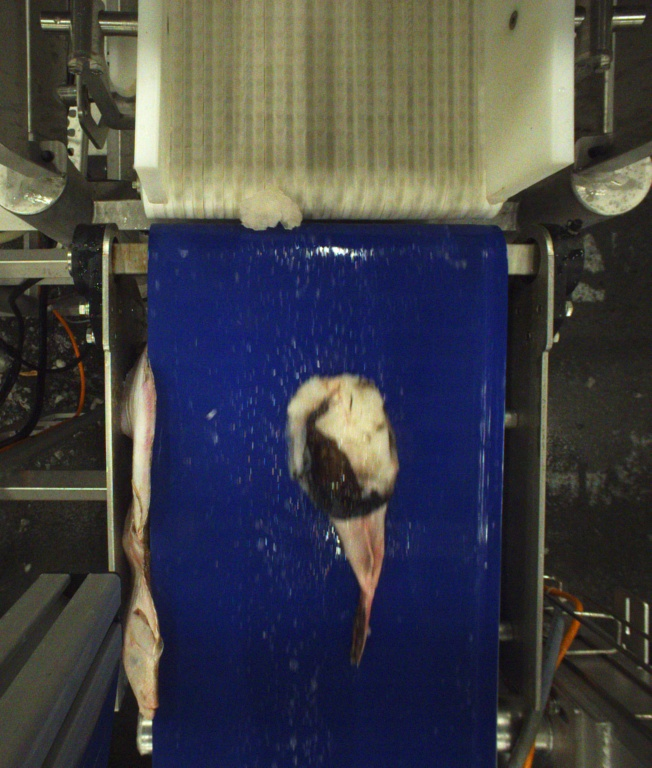ANF: (291, 371, 400, 670)
